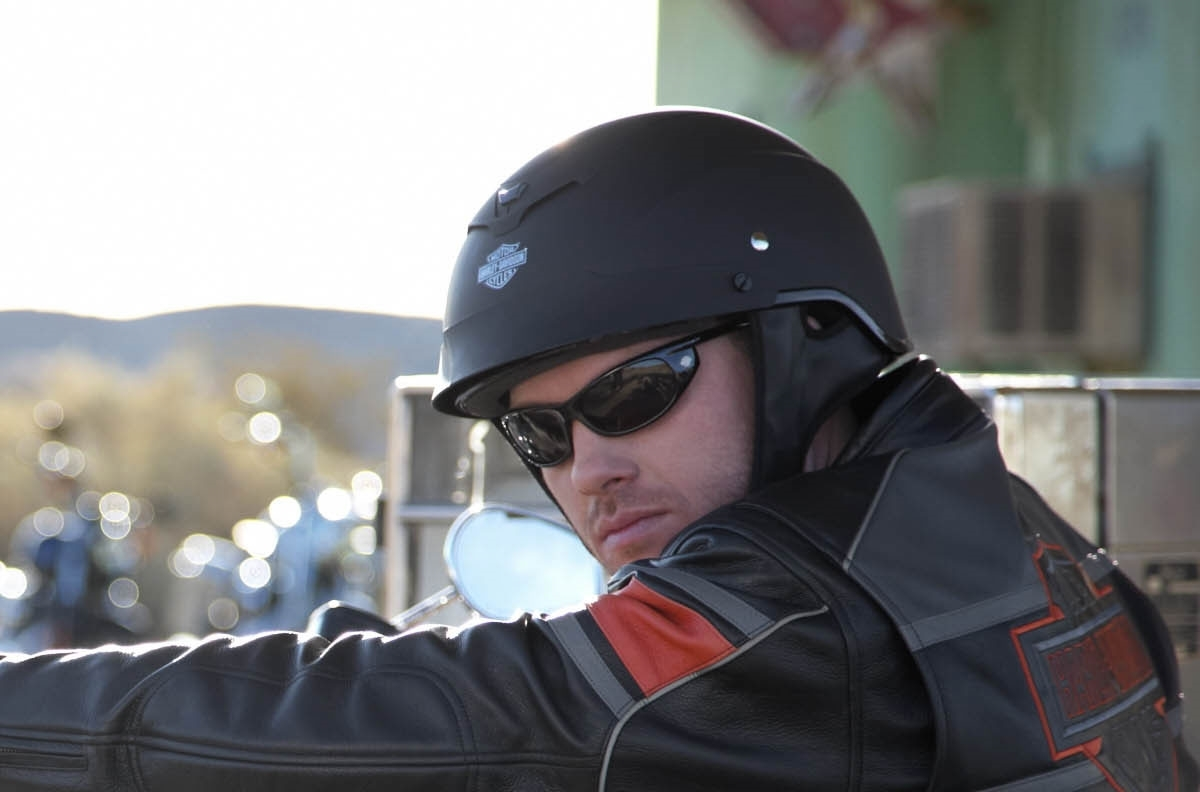with_helmet: (429, 94, 932, 539)
